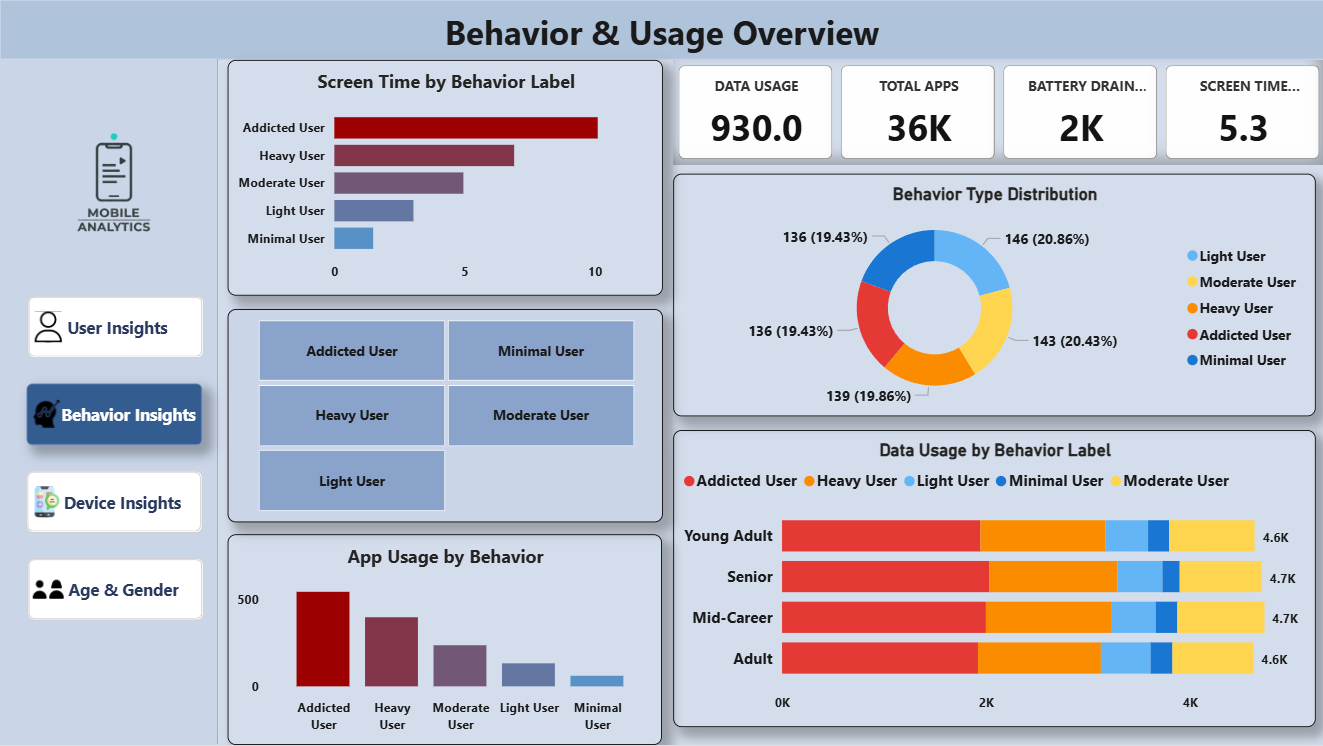

What the dashboard file says about the page in this screenshot:
{"tool":"powerbi","page":{"name":"Behavior Insights","canvas":[1280,720],"ordinal":1},"visuals":[{"type":"shape","box":[0,0,1280.5,58],"z":0},{"type":"shape","box":[0,57.1,210,662.9],"z":1000},{"type":"actionButton","box":[27.1,285.7,170,60],"z":2000},{"type":"actionButton","box":[25.7,370.5,170,60],"z":3000},{"type":"actionButton","box":[25.7,455.2,170,60],"z":4000},{"type":"actionButton","box":[27.1,540,170,60],"z":5000},{"type":"donutChart","title":"Behavior Type Distribution","fields":{"Y":["Calculate.Users"],"Category":["Dim_BehaviorTypes.Behavior Label"]},"box":[650.3,167.6,620.8,234.6],"z":6000},{"type":"barChart","title":" Data Usage by Behavior Label","fields":{"Y":["Calculate.Average Data"],"Category":["Dim_AgeBands.AgeGroup"],"Series":["Dim_BehaviorTypes.Behavior Label"]},"box":[650.3,415.7,620.8,286.9],"z":7000},{"type":"image","box":[0,65.7,220,220],"z":8000},{"type":"clusteredBarChart","title":" Screen Time by Behavior Label","fields":{"Category":["Dim_BehaviorTypes.Behavior Label"],"Y":["Calculate.Average Screen Time"]},"box":[219.9,57.7,421,227.9],"z":9000},{"type":"clusteredColumnChart","title":"App Usage by Behavior","fields":{"Category":["Dim_BehaviorTypes.Behavior Label"],"Y":["Calculate.Avg App Usage by Behavior"]},"box":[219.9,516.2,419.7,203.8],"z":10000},{"type":"cardVisual","title":"APP USAGE","fields":{"Data":["Calculate.AvgData","Calculate.TotalApps","Calculate.AvgBatt","Calculate.AvgScreen"]},"box":[650.3,57.7,630.2,101.9],"z":11000},{"type":"slicer","fields":{"Values":["Dim_BehaviorTypes.Behavior Label"]},"box":[219.9,299,421,206.5],"z":12000}]}

Visuals, with their boxes in screenshot pixels (x1, y1, x2, y2), scaled from the page's 1280x720 canvas onto the 1323x746 screenshot:
shape: Rect(0, 0, 1322, 60)
shape: Rect(0, 59, 217, 745)
actionButton: Rect(28, 296, 204, 358)
actionButton: Rect(27, 384, 202, 446)
actionButton: Rect(27, 472, 202, 534)
actionButton: Rect(28, 560, 204, 622)
"Behavior Type Distribution" donutChart: Rect(672, 174, 1314, 417)
" Data Usage by Behavior Label" barChart: Rect(672, 431, 1314, 728)
image: Rect(0, 68, 227, 296)
" Screen Time by Behavior Label" clusteredBarChart: Rect(227, 60, 662, 296)
"App Usage by Behavior" clusteredColumnChart: Rect(227, 535, 661, 745)
"APP USAGE" cardVisual: Rect(672, 60, 1322, 165)
slicer - Dim_BehaviorTypes.Behavior Label: Rect(227, 310, 662, 524)
